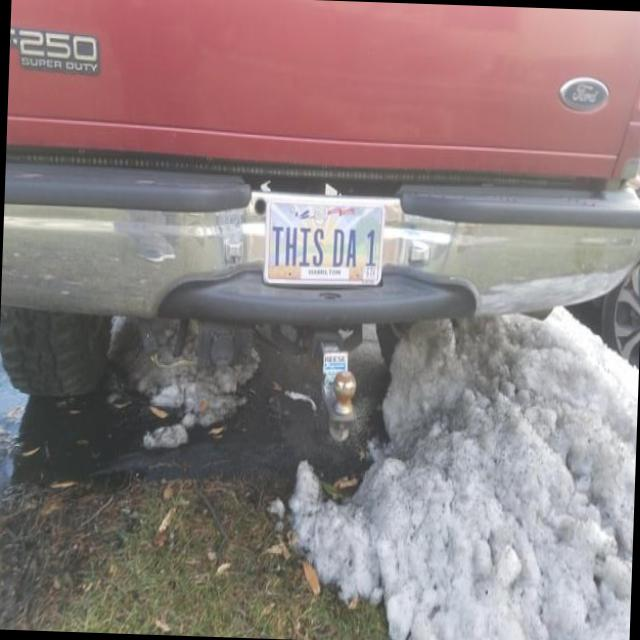LicensePlate: (263, 199, 386, 286)
